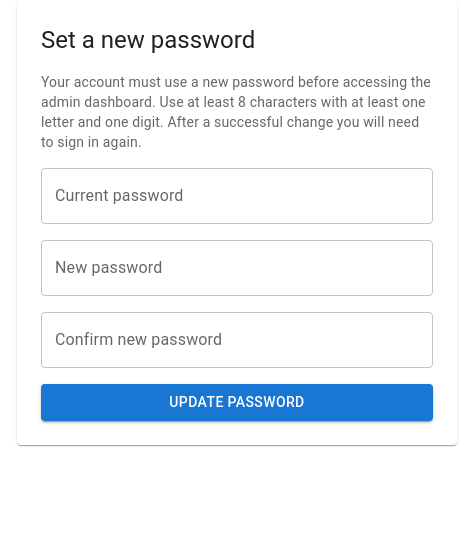
Test: AdminChangePasswordPage › shows the API message when the server rejects the new password
Type "oldpass1" into the password field labelled "Current password" at (237, 196), box [41,168,433,224]
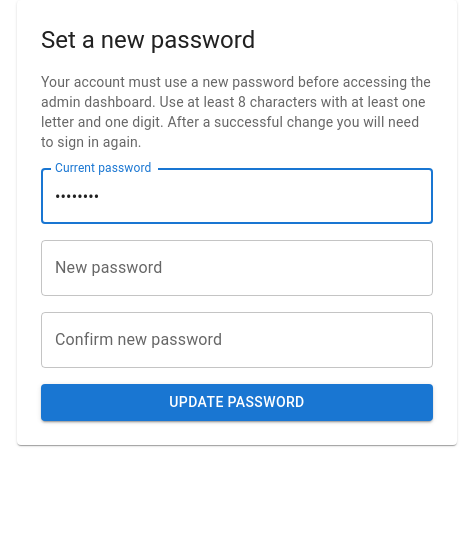
Type "short" into the password field labelled "New password" at (237, 268), box [41,240,433,296]
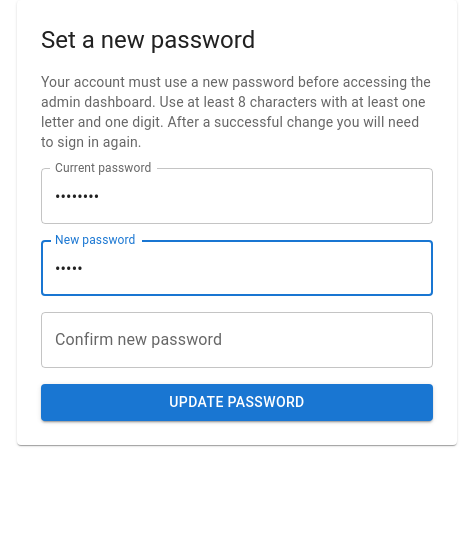
Type "short" into the password field labelled "Confirm new password" at (237, 340), box [41,312,433,368]
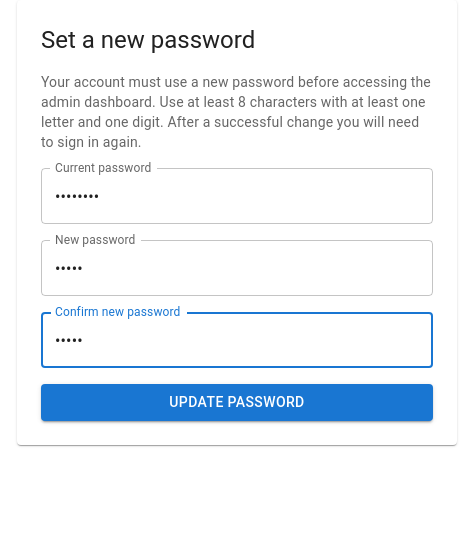
Click the button "Update password" at (237, 402), box [41,384,433,421]
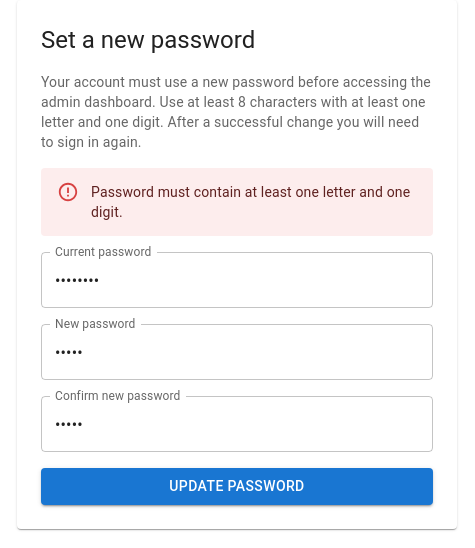
expect the text "Password must contain at least one letter and one digit." is shown: met, box [91,174,417,230]
